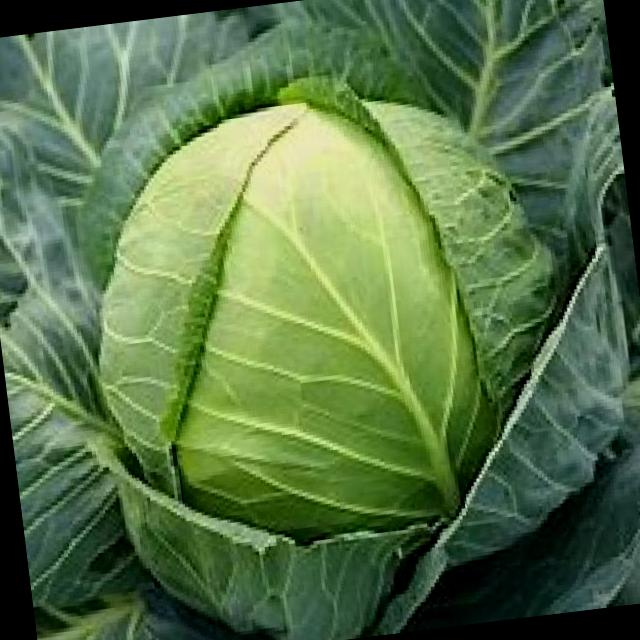cabbage: (68, 65, 590, 591)
